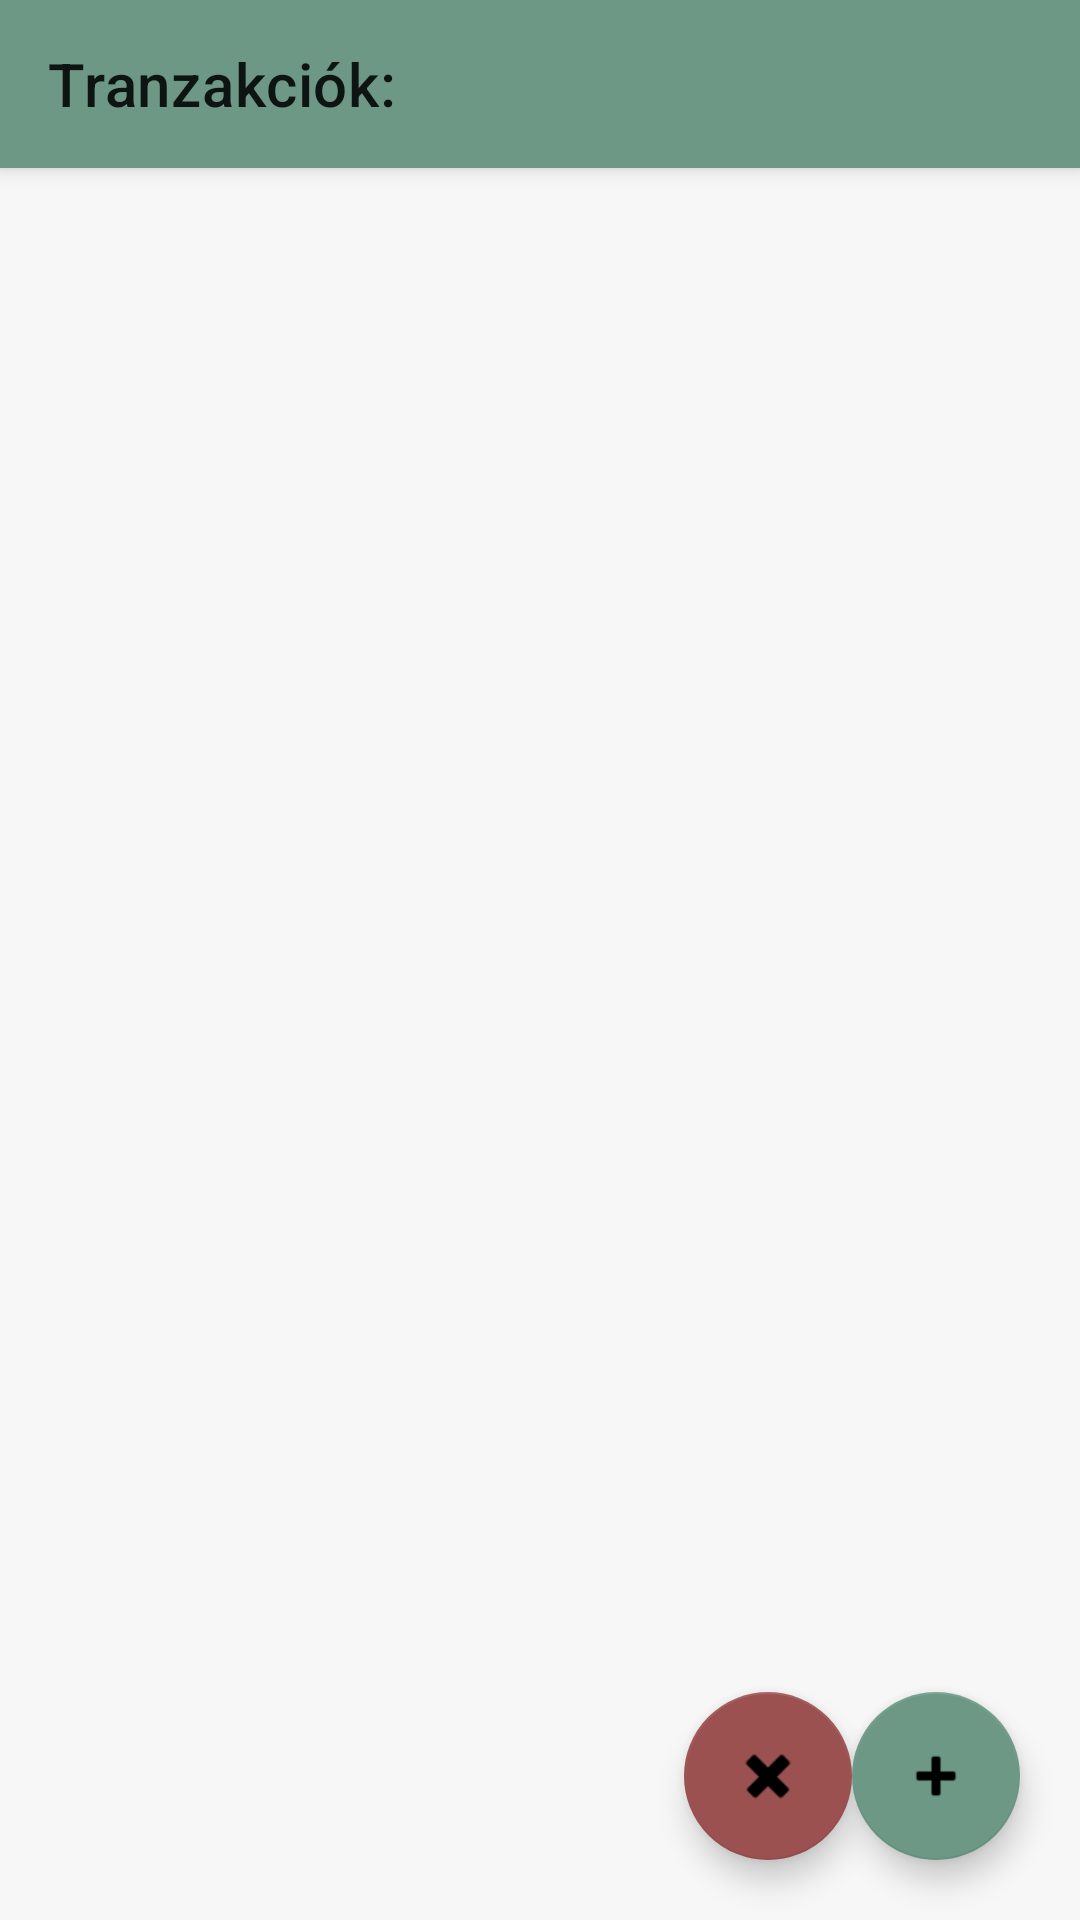

Where to tap for icons on this 1080*1920 app screen, as [x,y]:
add: [936,1776]
delete: [768,1776]
